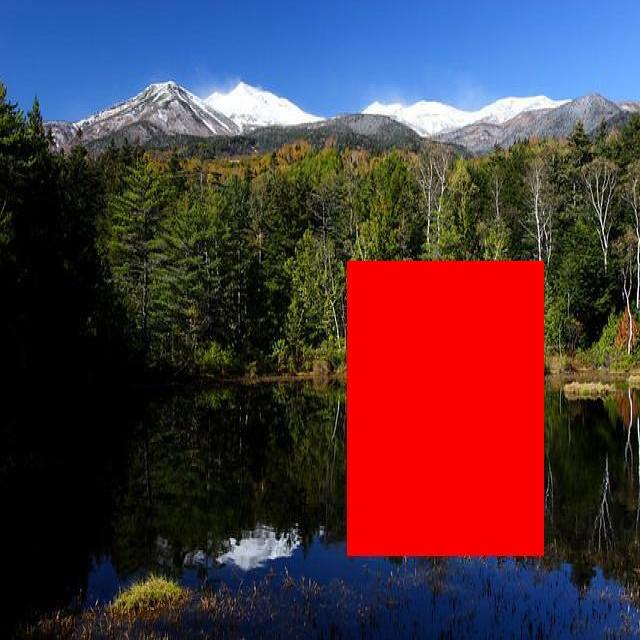RedSquare: (342, 256, 548, 564)
